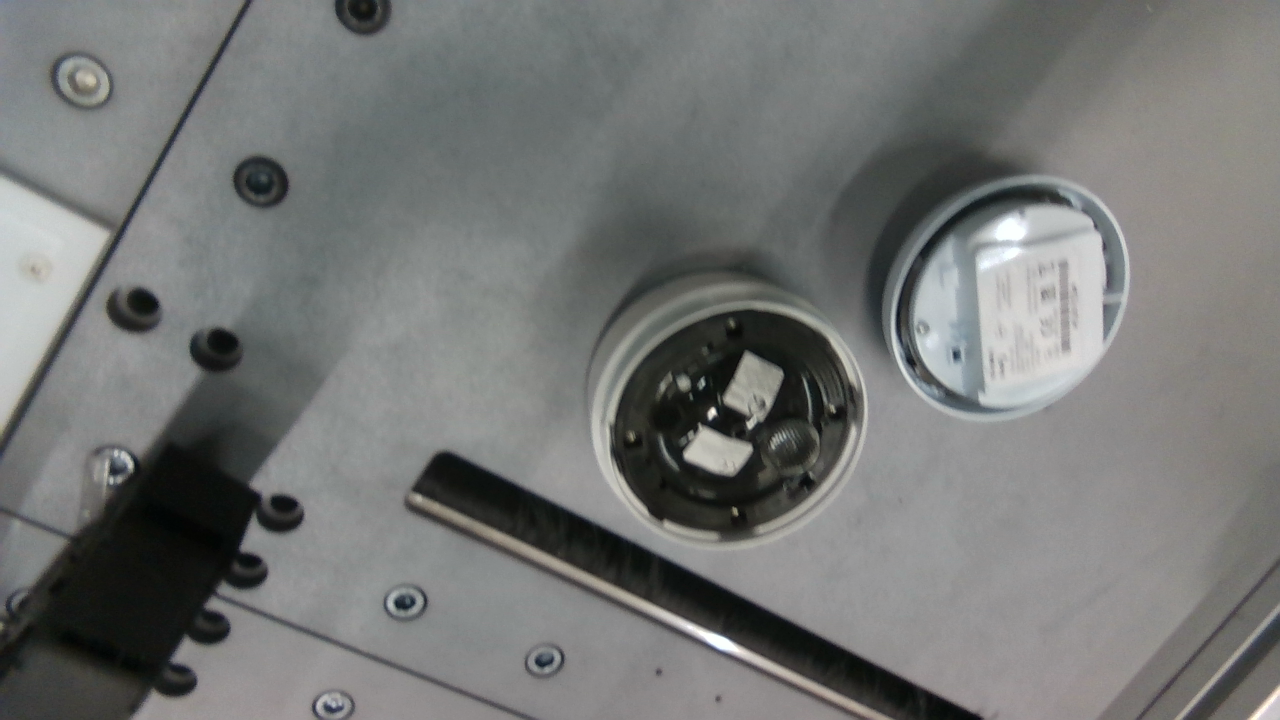HexScrew: (824, 401, 850, 423), (619, 429, 643, 446), (726, 505, 746, 520), (916, 320, 932, 338), (726, 319, 740, 336)
